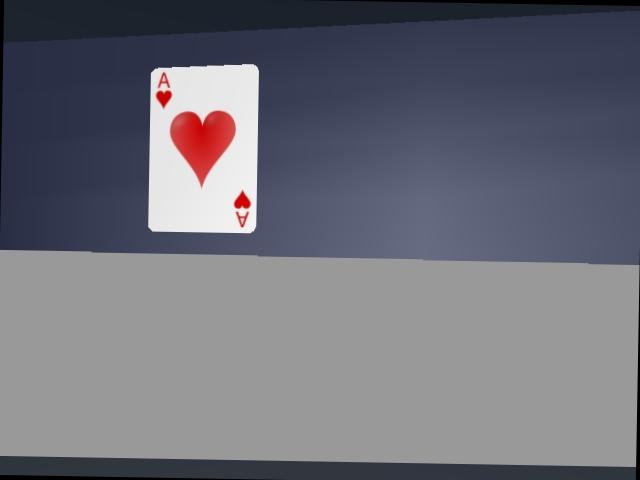heart: (148, 65, 258, 232)
